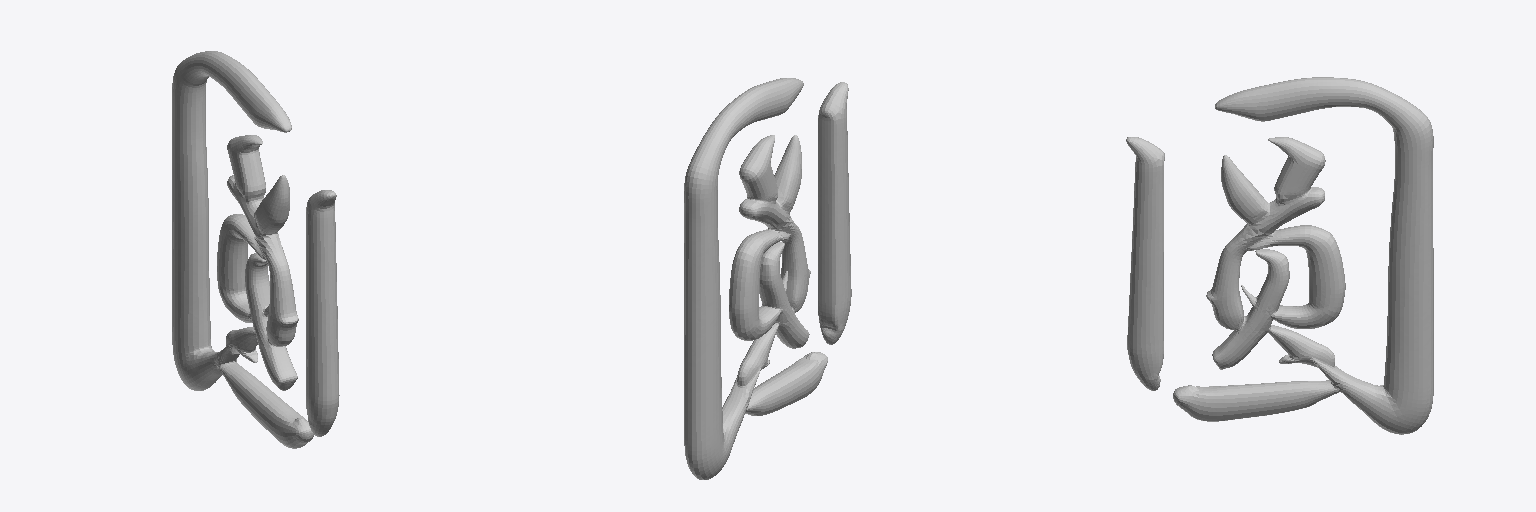
The picture shows the model from 3 angles: view 1: azimuth 30°, elevation 25°; view 2: azimuth 150°, elevation 25°; view 3: azimuth 270°, elevation 25°; orthographic projection.
Parts seen in each view (by area): view 1: tripo_node_10543beb-7a25-471f-972d-19f911e7d883; view 2: tripo_node_10543beb-7a25-471f-972d-19f911e7d883; view 3: tripo_node_10543beb-7a25-471f-972d-19f911e7d883.
Part boxes in pixels (x1,y1,x2,y2): tripo_node_10543beb-7a25-471f-972d-19f911e7d883: (172, 51, 339, 448); tripo_node_10543beb-7a25-471f-972d-19f911e7d883: (684, 78, 851, 479); tripo_node_10543beb-7a25-471f-972d-19f911e7d883: (1126, 77, 1433, 434).
Bounding box in the file's own units: 0.0878 × 0.9999 × 0.7844.